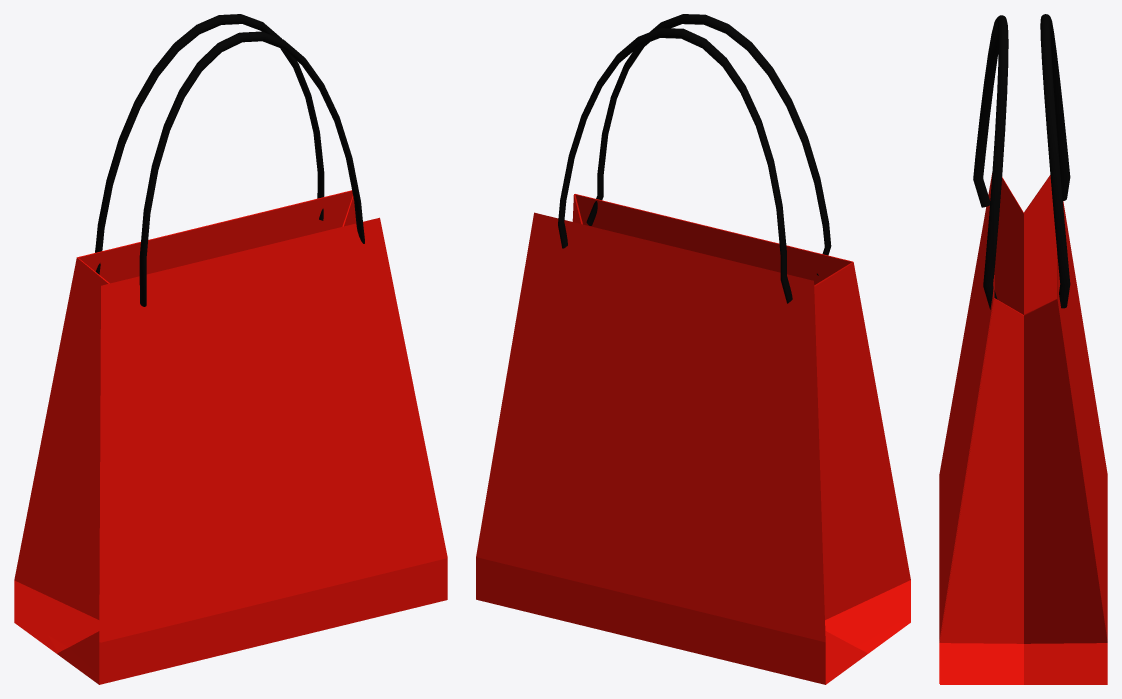
The model's file is shoppingbag.fbx.
3 views of the same model, side by side, from view 1: azimuth 30°, elevation 25°; view 2: azimuth 150°, elevation 25°; view 3: azimuth 270°, elevation 25° (orthographic).
Parts seen in each view (by area): view 1: Cube, Circle.001; view 2: Cube, Circle.001; view 3: Cube, Circle.001.
Part boxes in pixels (x1,y1,x2,y2): Cube: (14, 190, 447, 684); Circle.001: (95, 14, 364, 306); Cube: (476, 194, 910, 684); Circle.001: (558, 14, 831, 303); Cube: (939, 173, 1107, 684); Circle.001: (973, 14, 1070, 309).
Size of the model in its own units: 157 by 253 by 66.68.
